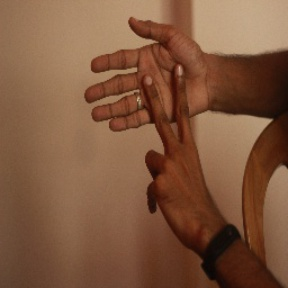N: (88, 11, 216, 196)
